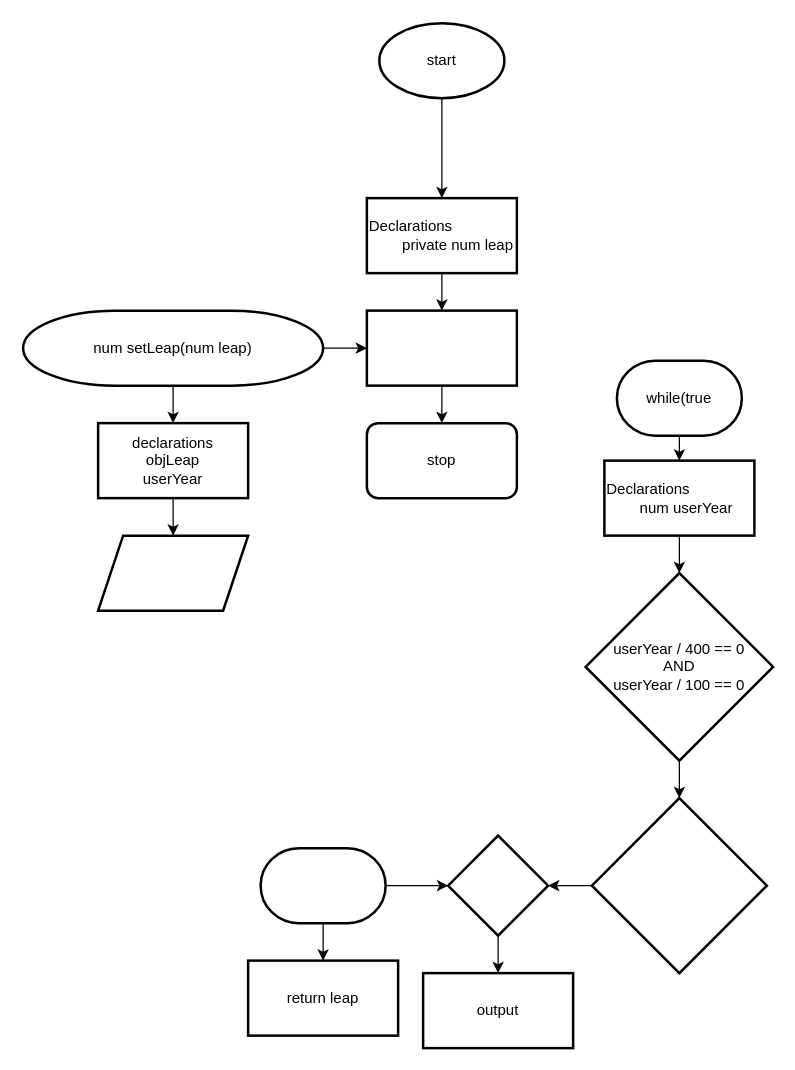
Image size: 795x1070. Some labels were removed from this diagram. The centre of each missing label's shape, as x and y in pixels:
"compute Leap(num leap)" belongs at [441,347].
"else" belongs at [497,885].
"input objLeap" belongs at [172,572].
"num getLeap" belongs at [322,885].
"userYear / 4 == 0" belongs at [679,885].
